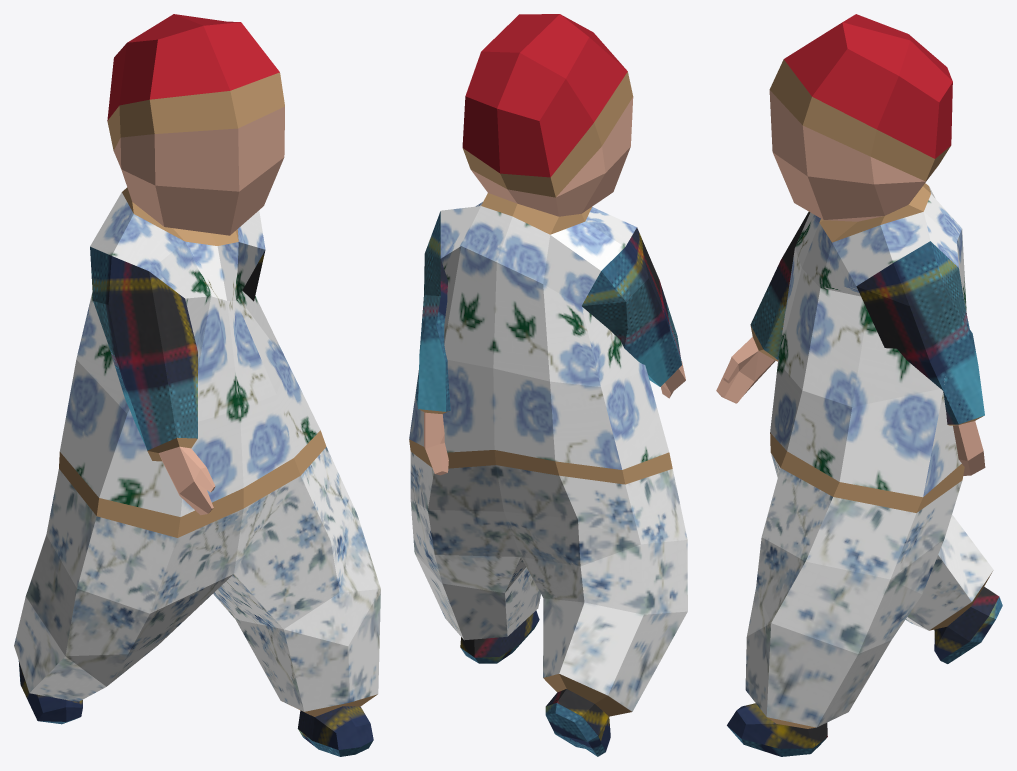
The model's file is SpringBaby.010.glb.
The picture shows the model from 3 angles, left to right: view 1: azimuth 30°, elevation 25°; view 2: azimuth 150°, elevation 25°; view 3: azimuth 270°, elevation 25°; orthographic projection. The views are drawn at different scales.
Parts seen in each view (by area): view 1: SpringBaby.010; view 2: SpringBaby.010; view 3: SpringBaby.010.
Boxes of the visible parts, x1,y1,x2,y2 form: SpringBaby.010: [14, 14, 380, 756]; SpringBaby.010: [409, 14, 687, 756]; SpringBaby.010: [716, 14, 1002, 756].
Bounding box in the file's own units: 0.238 × 0.5816 × 0.2221.
Materials: 1 (1 with a texture image).
